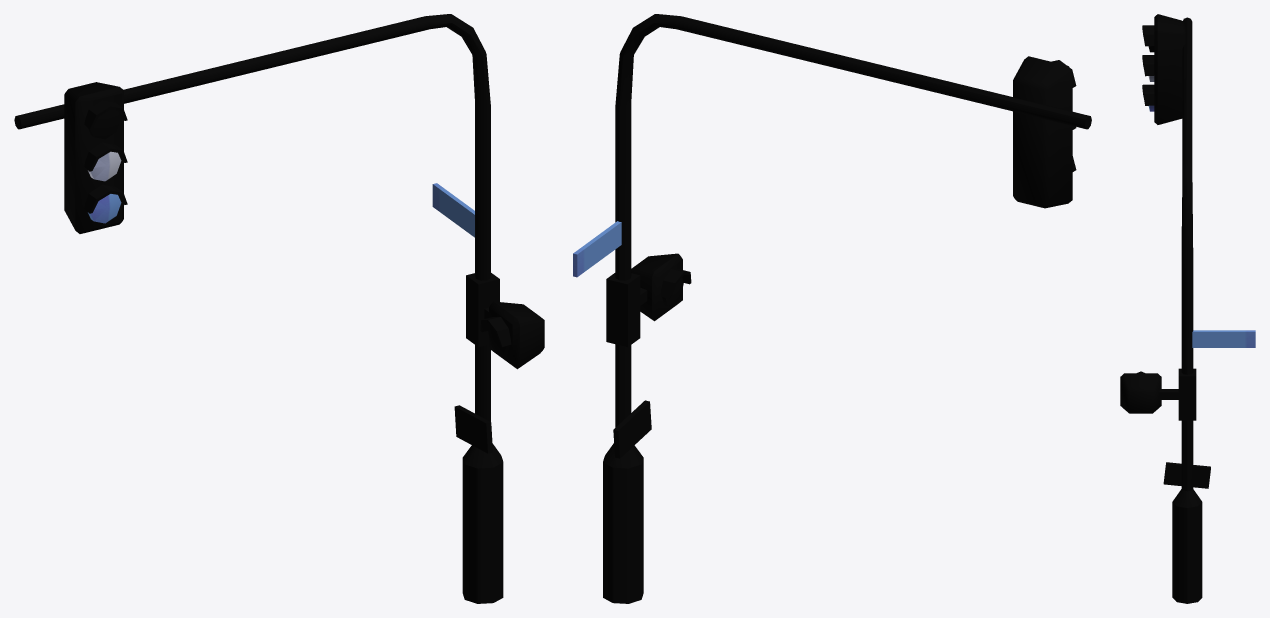
The model's file is traffic_light.glb.
The picture shows the model from 3 angles, left to right: view 1: azimuth 30°, elevation 25°; view 2: azimuth 150°, elevation 25°; view 3: azimuth 270°, elevation 25°; orthographic projection. The views are drawn at different scales.
Visible parts, largest first — view 1: trafficlight_C; view 2: trafficlight_C; view 3: trafficlight_C.
Part boxes in pixels (left/top/right/bottom): trafficlight_C: left=14, top=14, right=544, bottom=603; trafficlight_C: left=573, top=14, right=1091, bottom=603; trafficlight_C: left=1120, top=14, right=1255, bottom=603.
Size of the model in its own units: 0.7977 by 0.9695 by 0.2716.
Materials: 1 (1 with a texture image).
